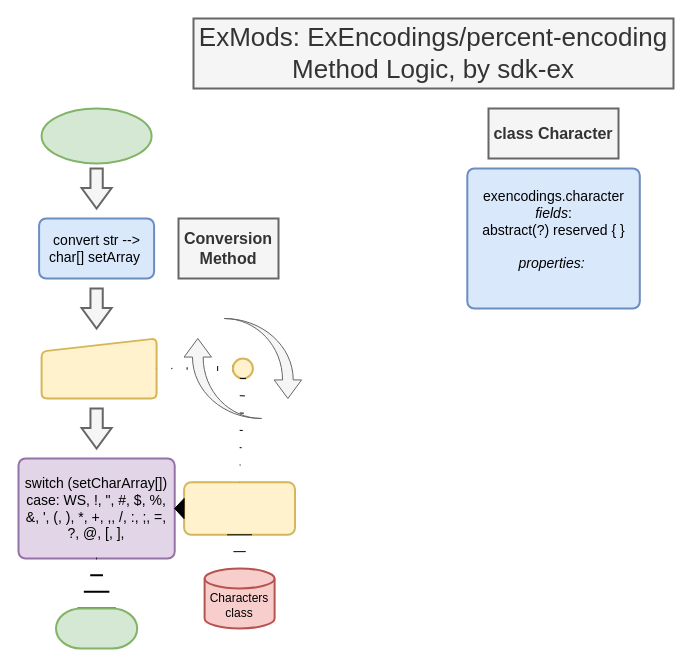
Some shapes in this 691 by 666 pixel diagram are drawn without their labels. Here are the shapes that lost their labels. From the top down, the centre of each, then its label:
At (96,135): "Start(String str)".
At (98,368): "for (setArray.length)".
At (239,508): "if char == case, replace w/ byte".
At (96,628): "update str".
